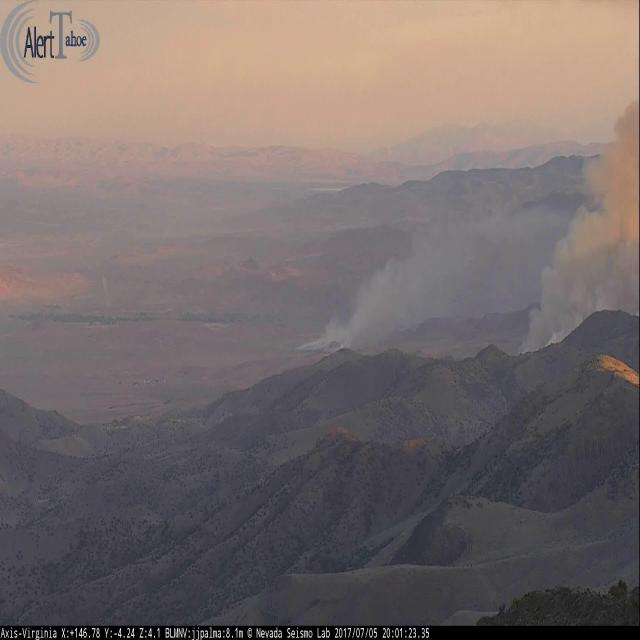smoke: (295, 207, 575, 352), (517, 96, 640, 359)
